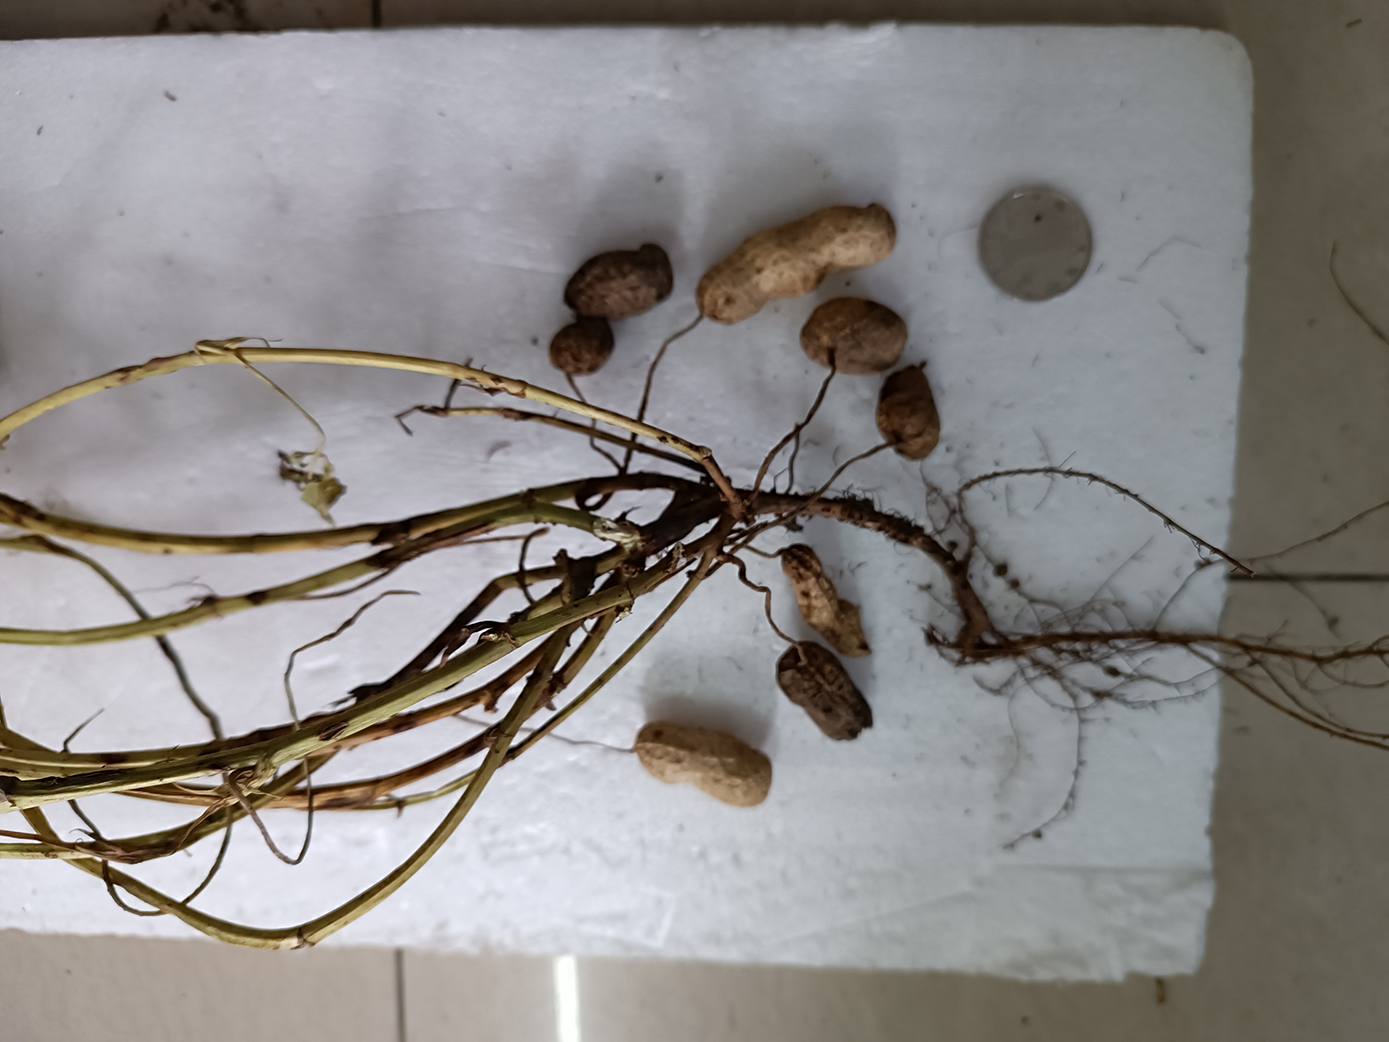h: (698, 208, 895, 323), (636, 717, 771, 808)
l: (780, 544, 875, 658), (773, 641, 873, 741), (565, 242, 672, 319), (802, 300, 907, 369), (878, 364, 939, 461), (551, 320, 616, 377)
